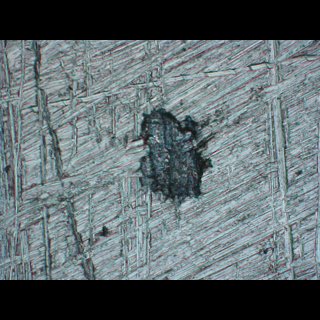d: (133, 102, 215, 214)
